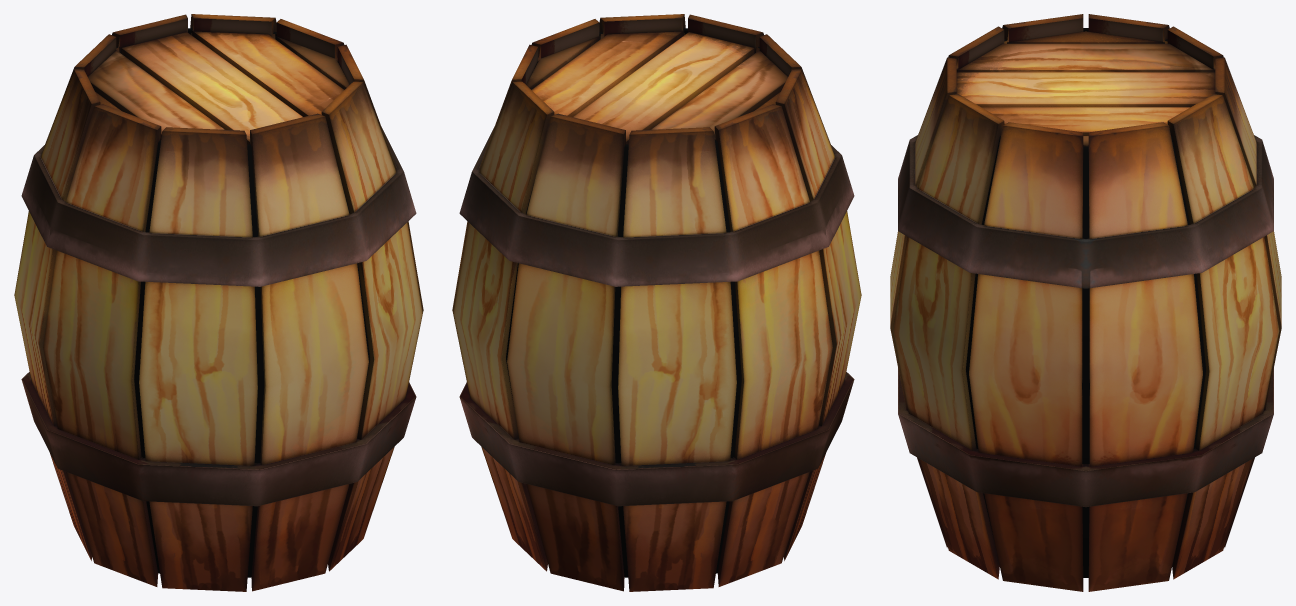
The model's file is barrel01.FBX.
3 renders of one model, left to right at view 1: azimuth 30°, elevation 25°; view 2: azimuth 150°, elevation 25°; view 3: azimuth 270°, elevation 25°, orthographic.
Visible parts, largest first — view 1: barril_01; view 2: barril_01; view 3: barril_01.
Boxes of the visible parts, left/top/right/bottom form: barril_01: left=14, top=14, right=423, bottom=591; barril_01: left=452, top=14, right=861, bottom=591; barril_01: left=890, top=14, right=1281, bottom=591.
Size of the model in its own units: 79 by 97.02 by 75.59.
